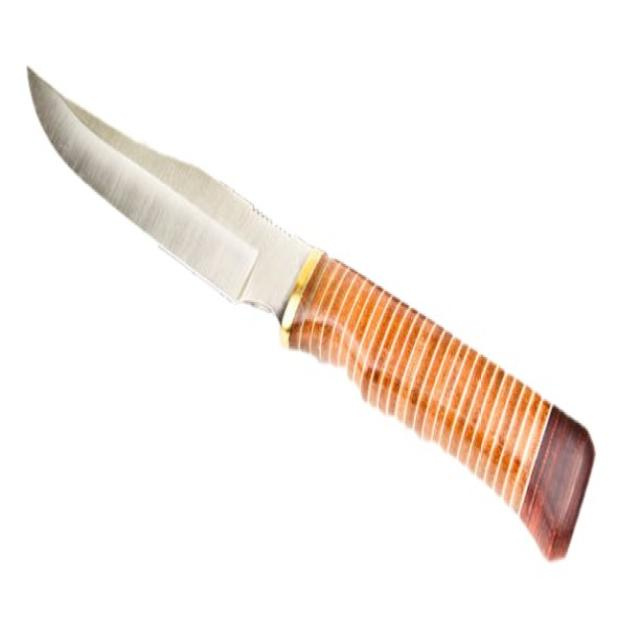knife: (26, 50, 602, 576)
